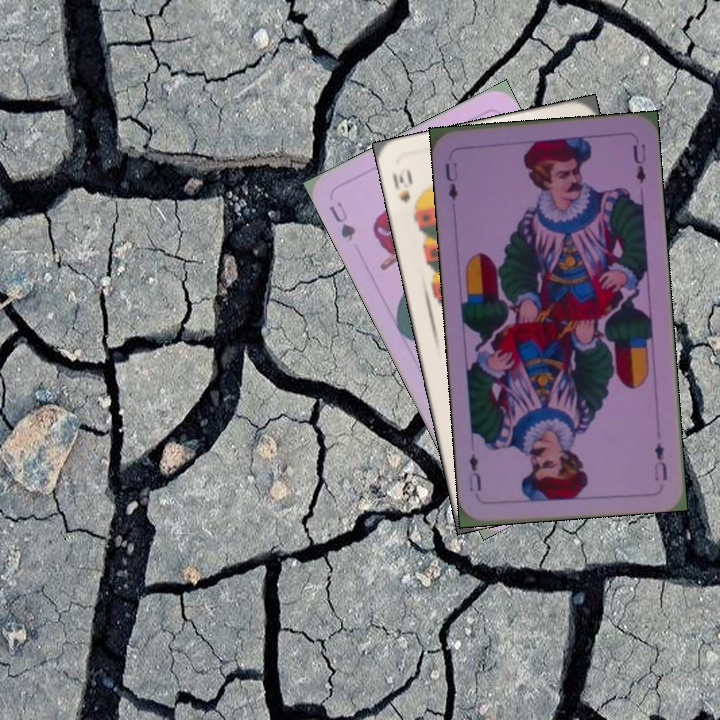EU: (441, 158, 461, 204), (650, 438, 670, 483)
GU: (324, 197, 359, 244)
S10: (388, 162, 422, 220)
